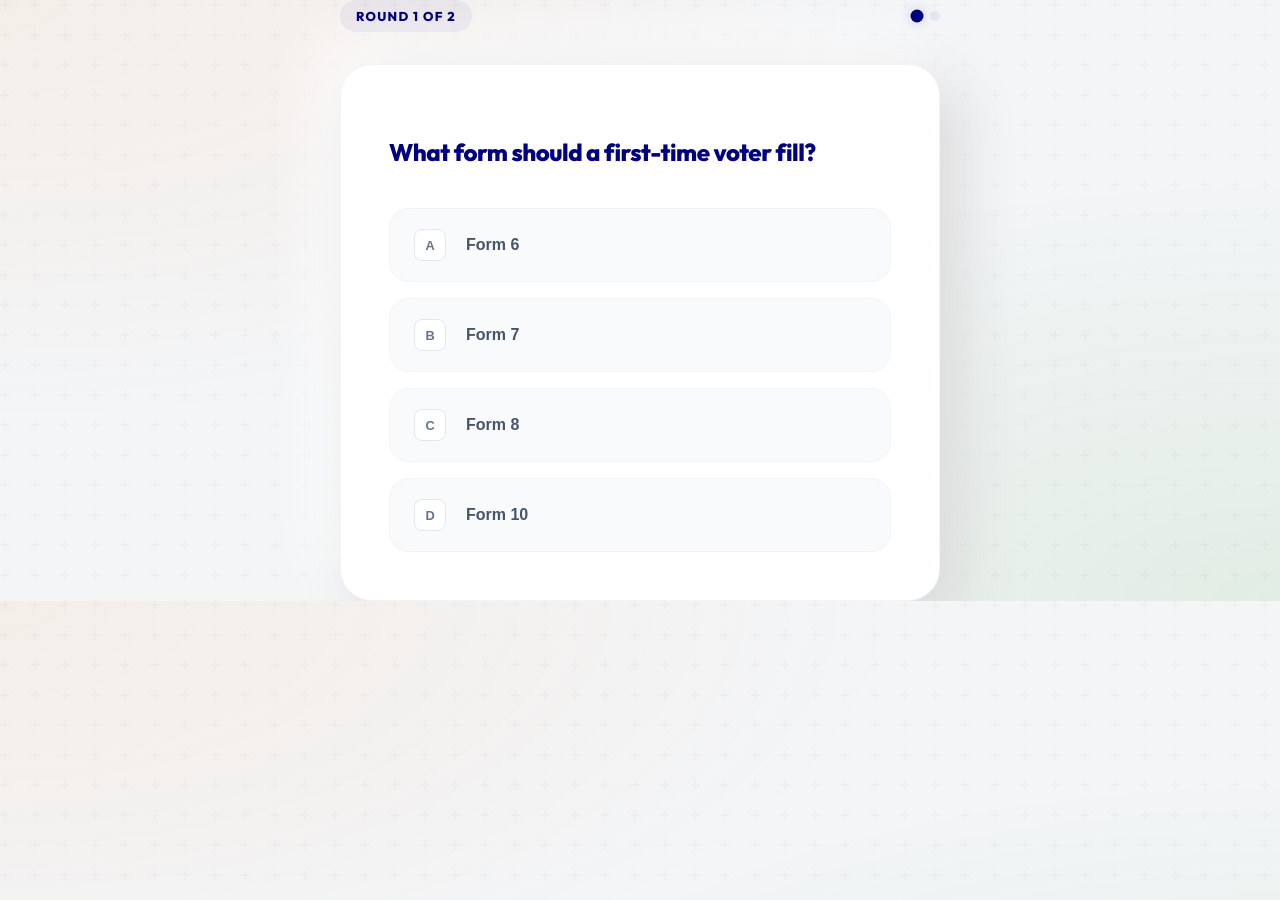
Test: ElectionQuiz Component › should advance to next question on Continue click
What coordinates should you click on to do the following:
click the text "Form 6"
I would click on:
 (493, 245)
Its box is left=466, top=236, right=519, bottom=254.
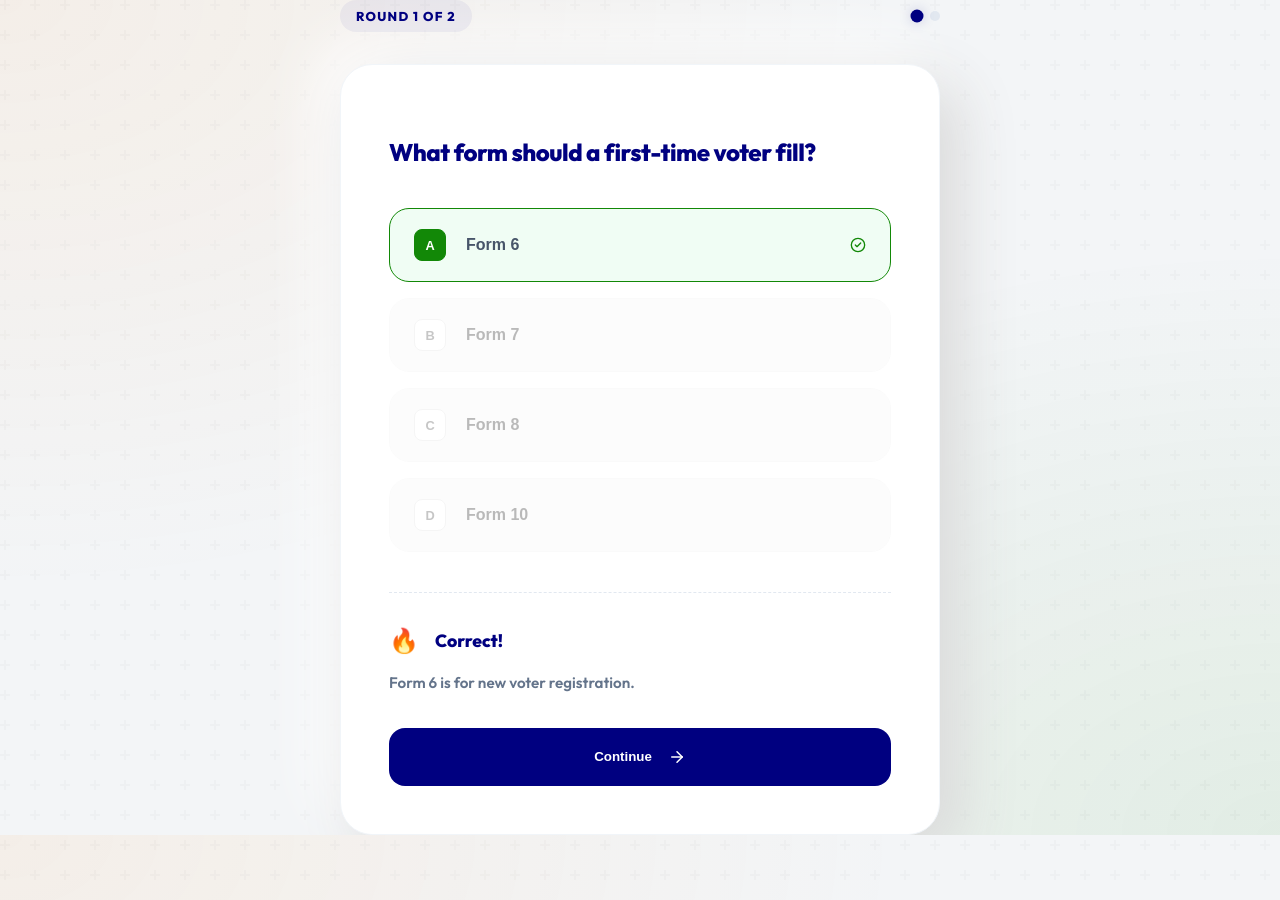
What coordinates should you click on to do the following:
click the button "Continue"
I would click on:
 (640, 756)
Its box is left=389, top=728, right=891, bottom=786.
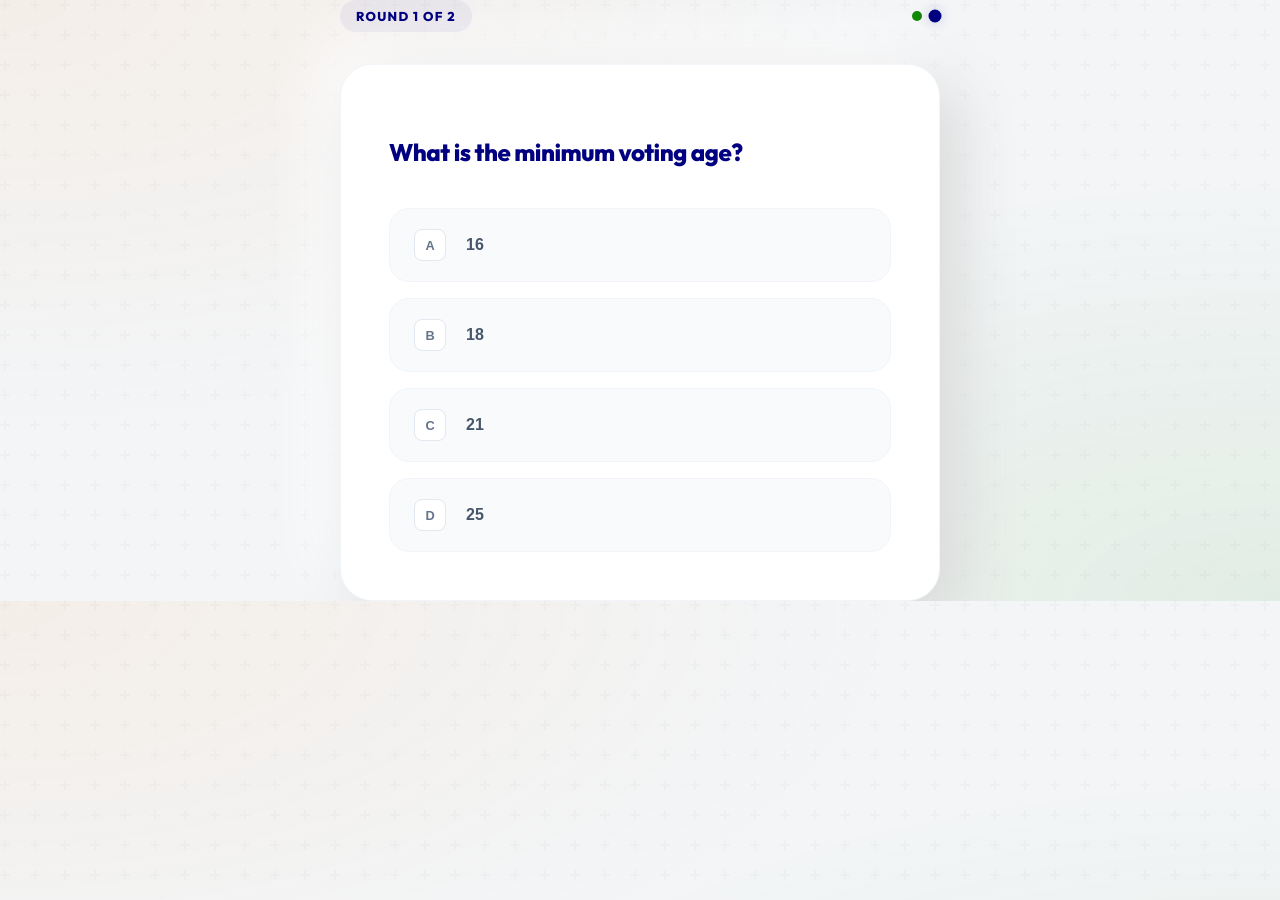
Check: the heading "What is the minimum voting age?" is shown, box left=389, top=137, right=743, bottom=167
